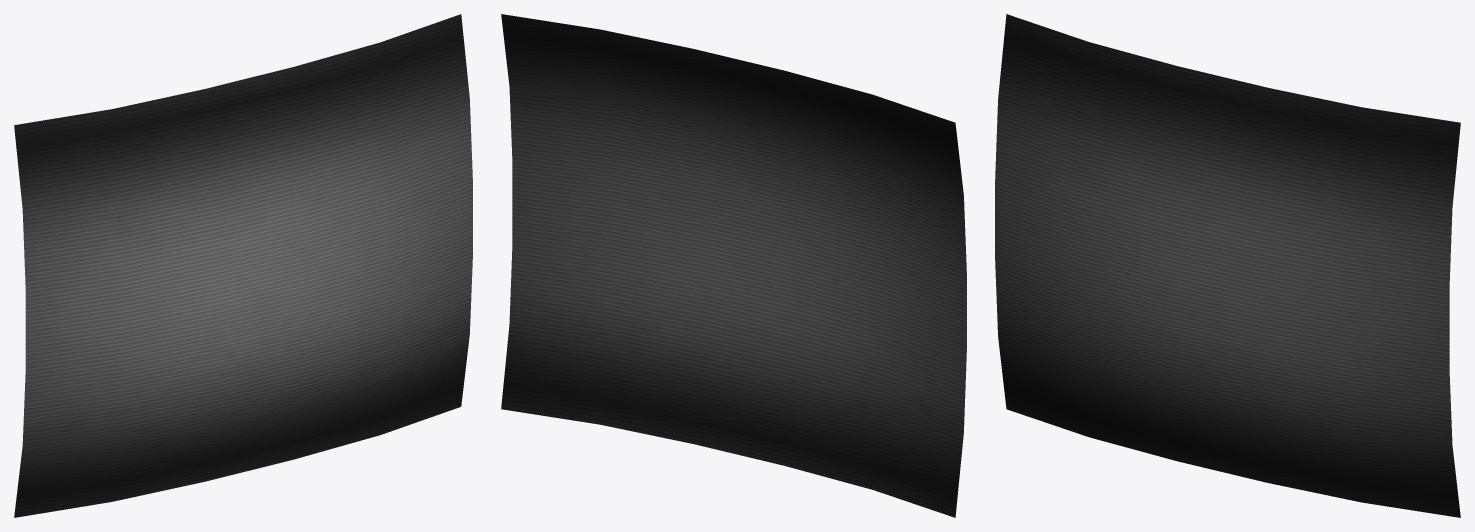
The model's file is SM_PC_1_Screen.fbx.
3 renders of one model, left to right at view 1: azimuth 30°, elevation 25°; view 2: azimuth 150°, elevation 25°; view 3: azimuth 330°, elevation 25°, orthographic.
Visible parts, largest first — view 1: SM_PC_1_Screen; view 2: SM_PC_1_Screen; view 3: SM_PC_1_Screen.
Part boxes in pixels (x1,y1,x2,y2): SM_PC_1_Screen: (14, 14, 472, 517); SM_PC_1_Screen: (501, 14, 966, 517); SM_PC_1_Screen: (995, 14, 1460, 517).
Bounding box in the file's own units: 46.47 × 38.8 × 4.63.
